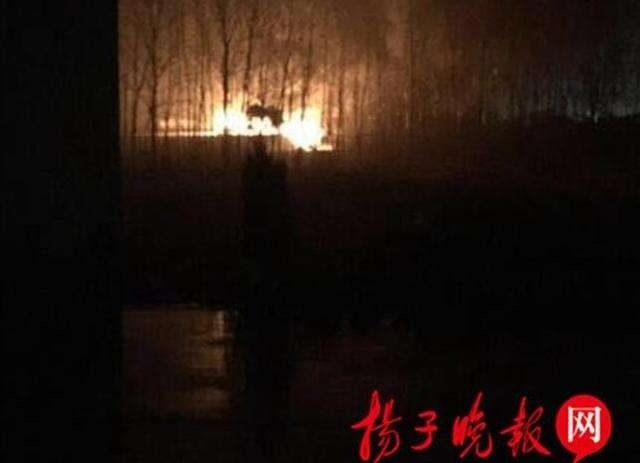fire: (203, 89, 333, 146)
